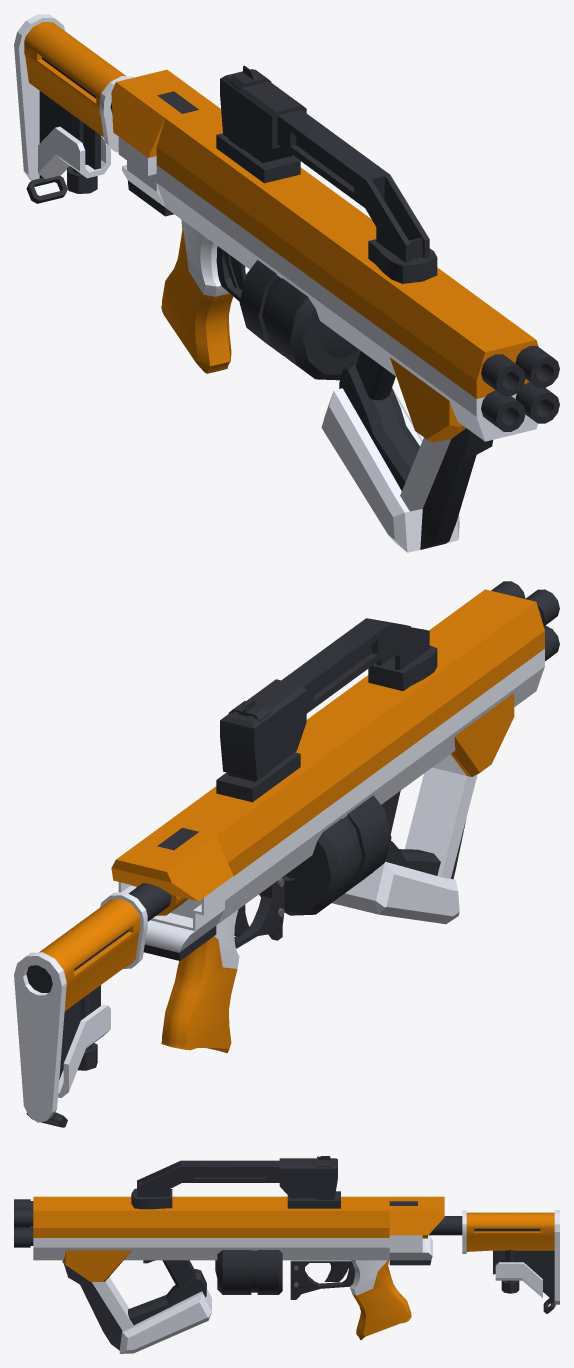
Rendered from shotgun1.fbx.
The picture shows the model from 3 angles, top to bottom: view 1: azimuth 30°, elevation 25°; view 2: azimuth 150°, elevation 25°; view 3: azimuth 270°, elevation 25°; orthographic projection. The views are drawn at different scales.
Parts seen in each view (by area): view 1: mediumBlaster_center, grip_trigger_valentine, carryhandle_viper, stock_coyote, grip_trigger_sentinel, magazine_viper_drum, largeBlaster_front_beveled, barrel_twinV_short (×2); view 2: mediumBlaster_center, stock_coyote, carryhandle_viper, grip_trigger_valentine, largeBlaster_front_beveled, grip_trigger_sentinel, magazine_viper_drum, barrel_twinV_short; view 3: mediumBlaster_center, grip_trigger_valentine, stock_coyote, carryhandle_viper, grip_trigger_sentinel, largeBlaster_front_beveled, magazine_viper_drum, barrel_twinV_short.
Part boxes in pixels (left/top/right/bottom): mediumBlaster_center: left=156, top=105, right=538, bottom=441; grip_trigger_valentine: left=321, top=351, right=493, bottom=552; carryhandle_viper: left=216, top=69, right=437, bottom=283; stock_coyote: left=14, top=14, right=134, bottom=203; grip_trigger_sentinel: left=161, top=219, right=245, bottom=373; magazine_viper_drum: left=239, top=260, right=360, bottom=380; largeBlaster_front_beveled: left=111, top=69, right=215, bottom=216; barrel_twinV_short (×2): left=481, top=346, right=559, bottom=431; mediumBlaster_center: left=165, top=589, right=544, bottom=924; stock_coyote: left=14, top=883, right=187, bottom=1127; carryhandle_viper: left=216, top=618, right=437, bottom=802; grip_trigger_valentine: left=332, top=693, right=514, bottom=924; largeBlaster_front_beveled: left=111, top=823, right=233, bottom=960; grip_trigger_sentinel: left=161, top=876, right=284, bottom=1053; magazine_viper_drum: left=259, top=795, right=391, bottom=915; barrel_twinV_short: left=525, top=589, right=559, bottom=661; mediumBlaster_center: left=33, top=1196, right=389, bottom=1260; grip_trigger_valentine: left=62, top=1250, right=211, bottom=1353; stock_coyote: left=422, top=1210, right=559, bottom=1313; carryhandle_viper: left=131, top=1158, right=340, bottom=1209; grip_trigger_sentinel: left=290, top=1260, right=411, bottom=1339; largeBlaster_front_beveled: left=389, top=1196, right=444, bottom=1265; magazine_viper_drum: left=215, top=1250, right=282, bottom=1294; barrel_twinV_short: left=14, top=1208, right=33, bottom=1247.
Size of the model in its own units: 5.95 by 19.17 by 49.68.
